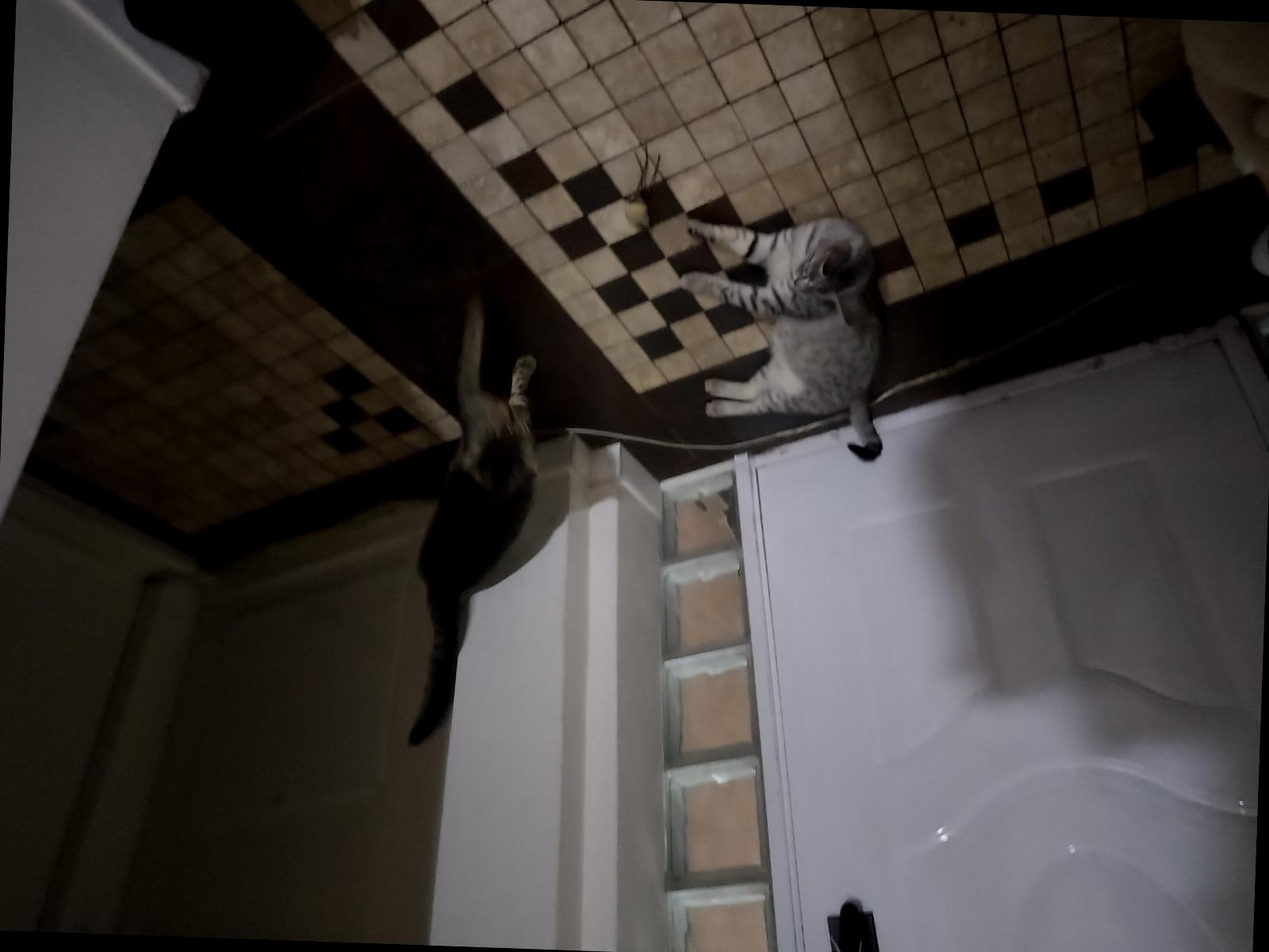macka: (402, 295, 545, 753), (677, 213, 893, 462)
